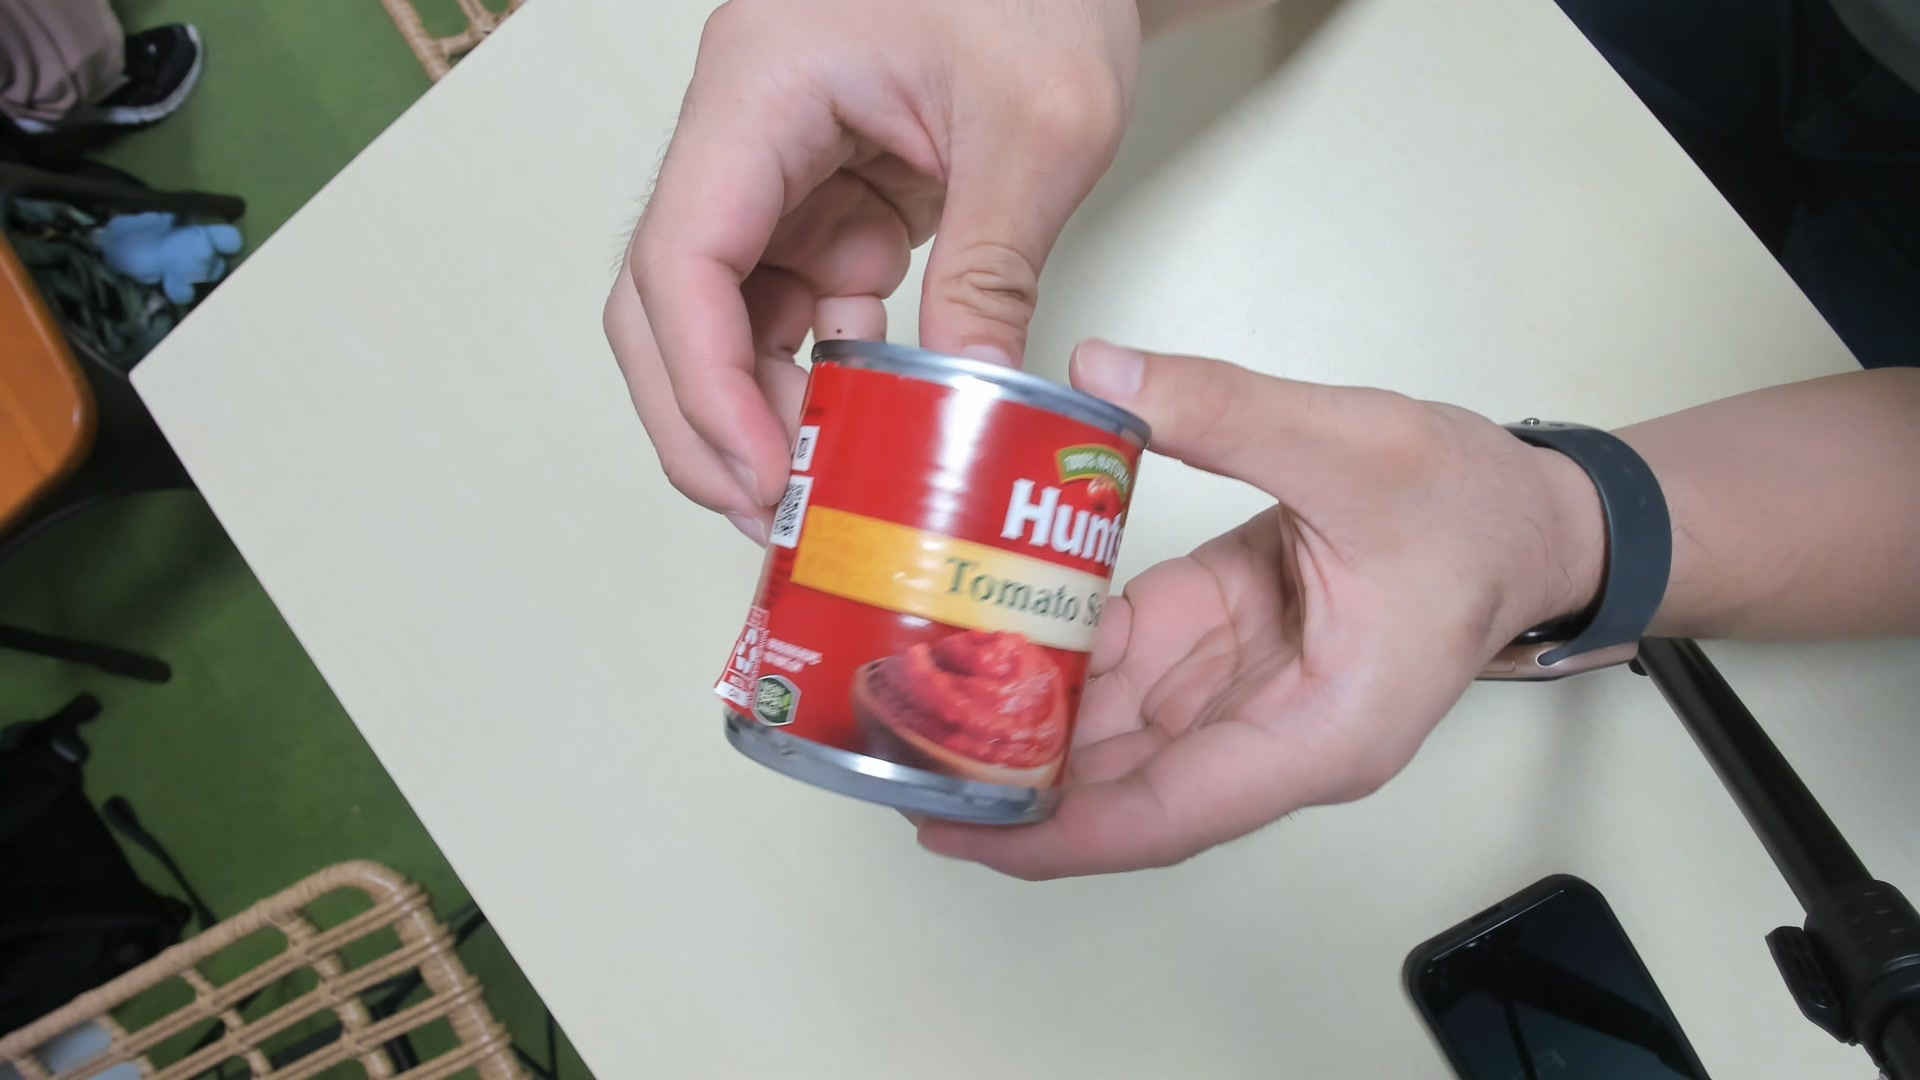OtherSauceDressing_200-299g_NonHalal_NonHealthy: (717, 342, 1153, 827)
